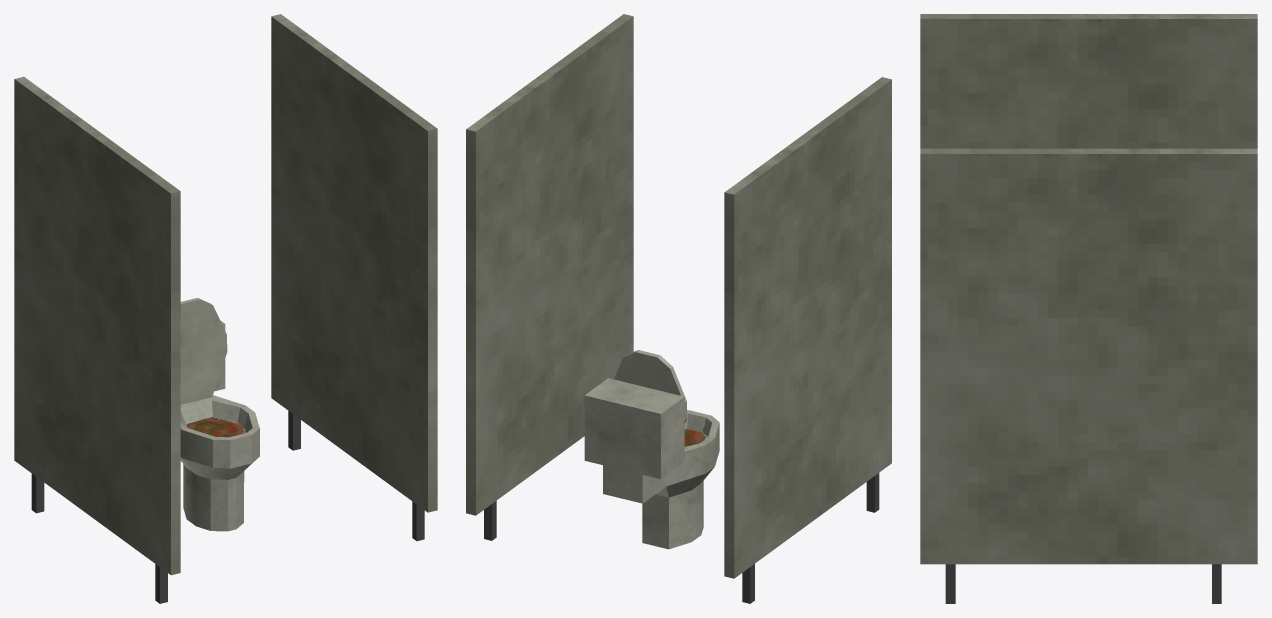
File: SM_Toilet.glb
3 renders of one model, left to right at view 1: azimuth 30°, elevation 25°; view 2: azimuth 150°, elevation 25°; view 3: azimuth 270°, elevation 25°, orthographic. The views are drawn at different scales.
Visible parts, largest first — view 1: SM_Toilet; view 2: SM_Toilet; view 3: SM_Toilet.
Part boxes in pixels (x1=…): SM_Toilet: x1=14, y1=14, x2=437, y2=603; SM_Toilet: x1=466, y1=14, x2=891, y2=603; SM_Toilet: x1=920, y1=14, x2=1257, y2=603.
Bounding box in the file's own units: 1.33 × 2 × 1.36.
Materials: 1 (1 with a texture image).
